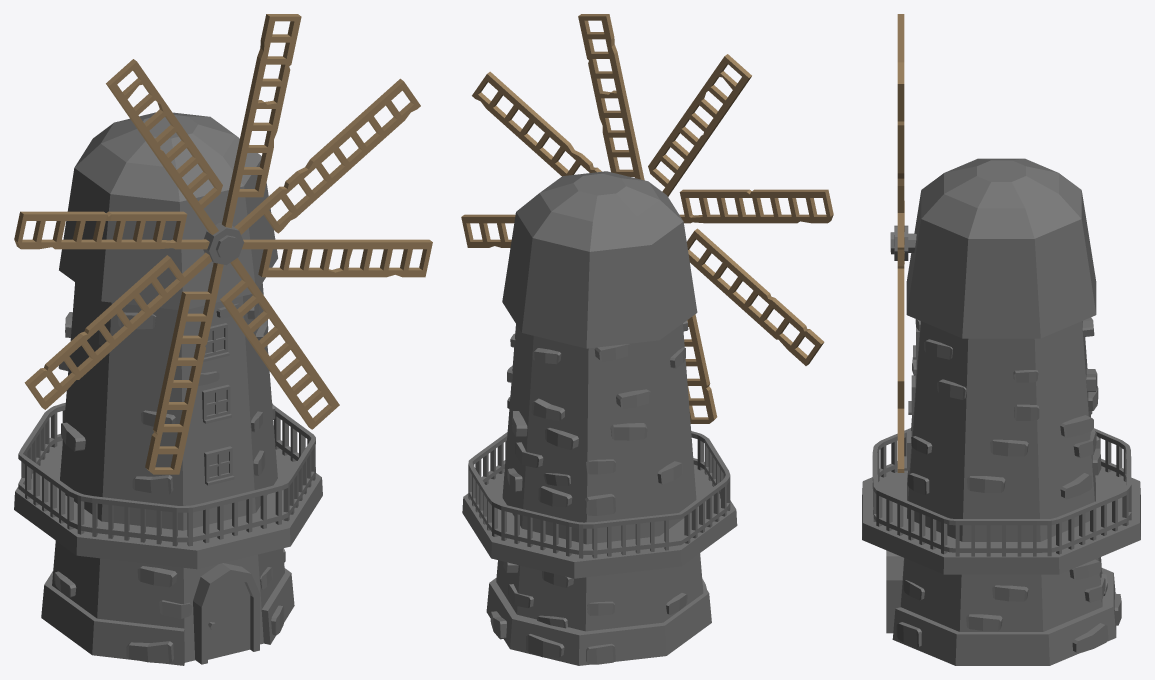
File: TowerWindmill.glb
3 renders of one model, left to right at view 1: azimuth 30°, elevation 25°; view 2: azimuth 150°, elevation 25°; view 3: azimuth 270°, elevation 25°, orthographic. The views are drawn at different scales.
Visible parts, largest first — view 1: TowerWindmill_Cylinder.008, TowerWindmill_Blades_Cylinder.006; view 2: TowerWindmill_Cylinder.008, TowerWindmill_Blades_Cylinder.006; view 3: TowerWindmill_Cylinder.008, TowerWindmill_Blades_Cylinder.006.
Part boxes in pixels (bbox=[...]): TowerWindmill_Cylinder.008: bbox=[14, 112, 322, 665]; TowerWindmill_Blades_Cylinder.006: bbox=[14, 14, 432, 474]; TowerWindmill_Cylinder.008: bbox=[462, 171, 737, 665]; TowerWindmill_Blades_Cylinder.006: bbox=[461, 14, 833, 423]; TowerWindmill_Cylinder.008: bbox=[862, 158, 1140, 665]; TowerWindmill_Blades_Cylinder.006: bbox=[897, 14, 904, 472].
Bounding box in the file's own units: 7.92 × 11.41 × 4.99.
